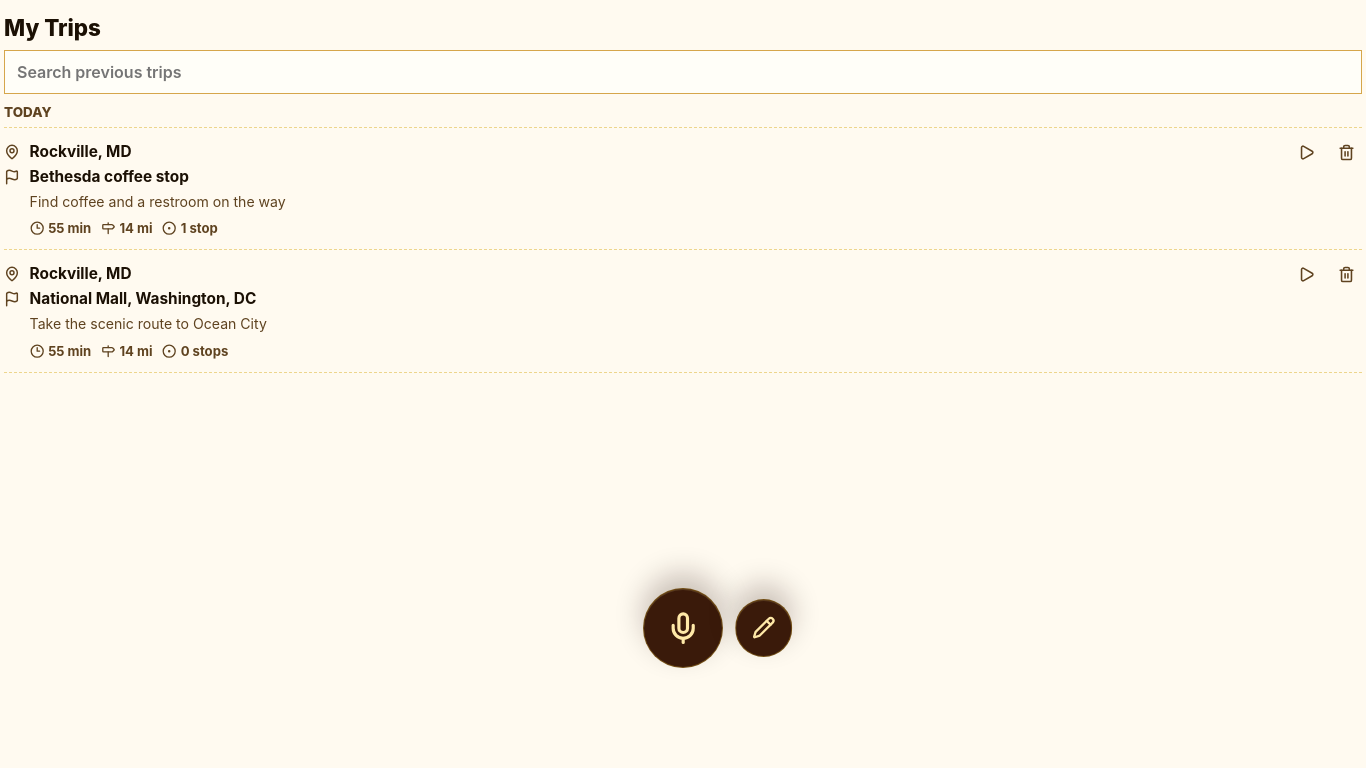
Test: MainScreen › filters, plays, and removes previous trips
Expected: the heading "My Trips" is shown, [4, 14, 101, 41]
Expected: the text "Rockville, MD" is shown 2 times, [30, 142, 132, 161]; [30, 264, 132, 283]
Type "coffee" into the search field labelled "Search previous trips".
click(683, 72); type("coffee")  # box [4, 50, 1362, 94]
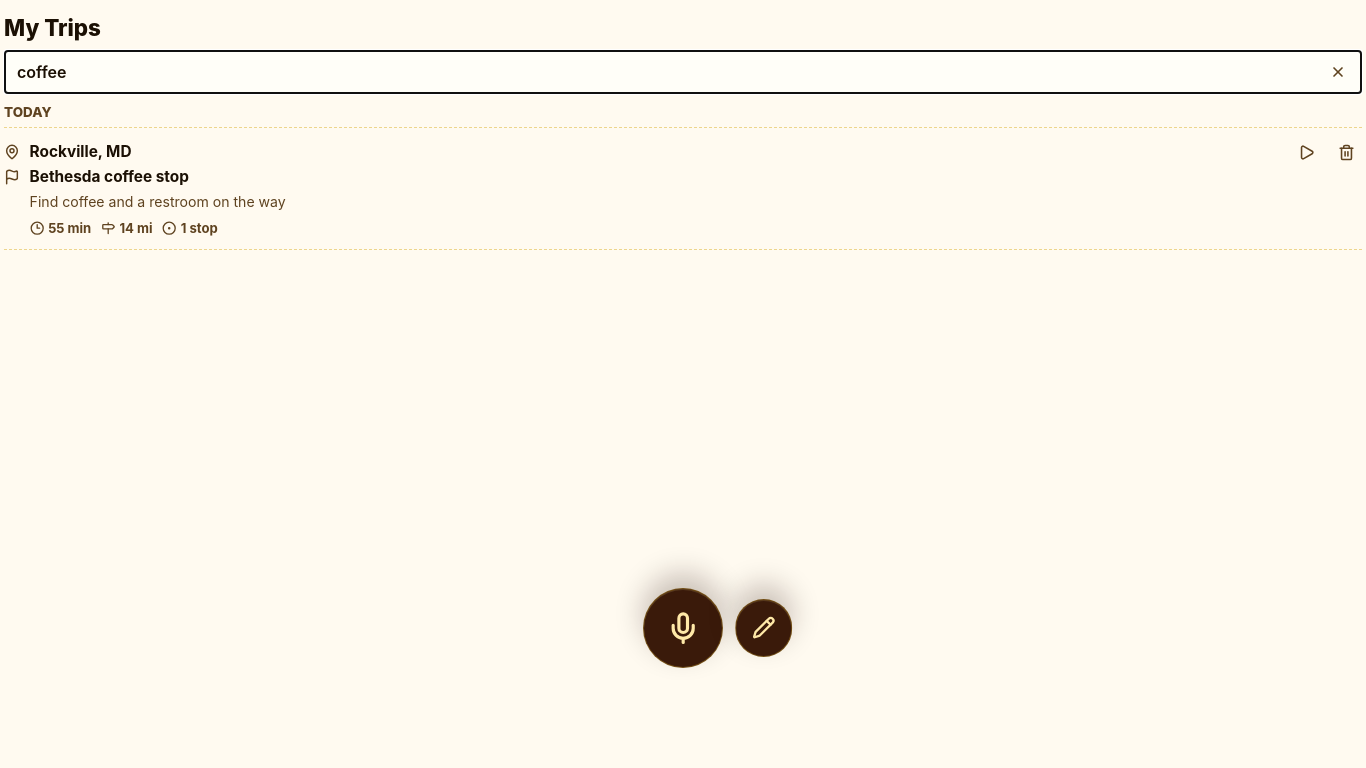
Expected: the text "Bethesda coffee stop" is shown, [30, 166, 189, 186]
Result: the button named "Clear Previous Trips Search" is shown
Result: the text "Take the scenic route to Ocean City" is gone
Click the button named "Clear Previous Trips Search".
click(1338, 72)  # box [1320, 54, 1356, 90]
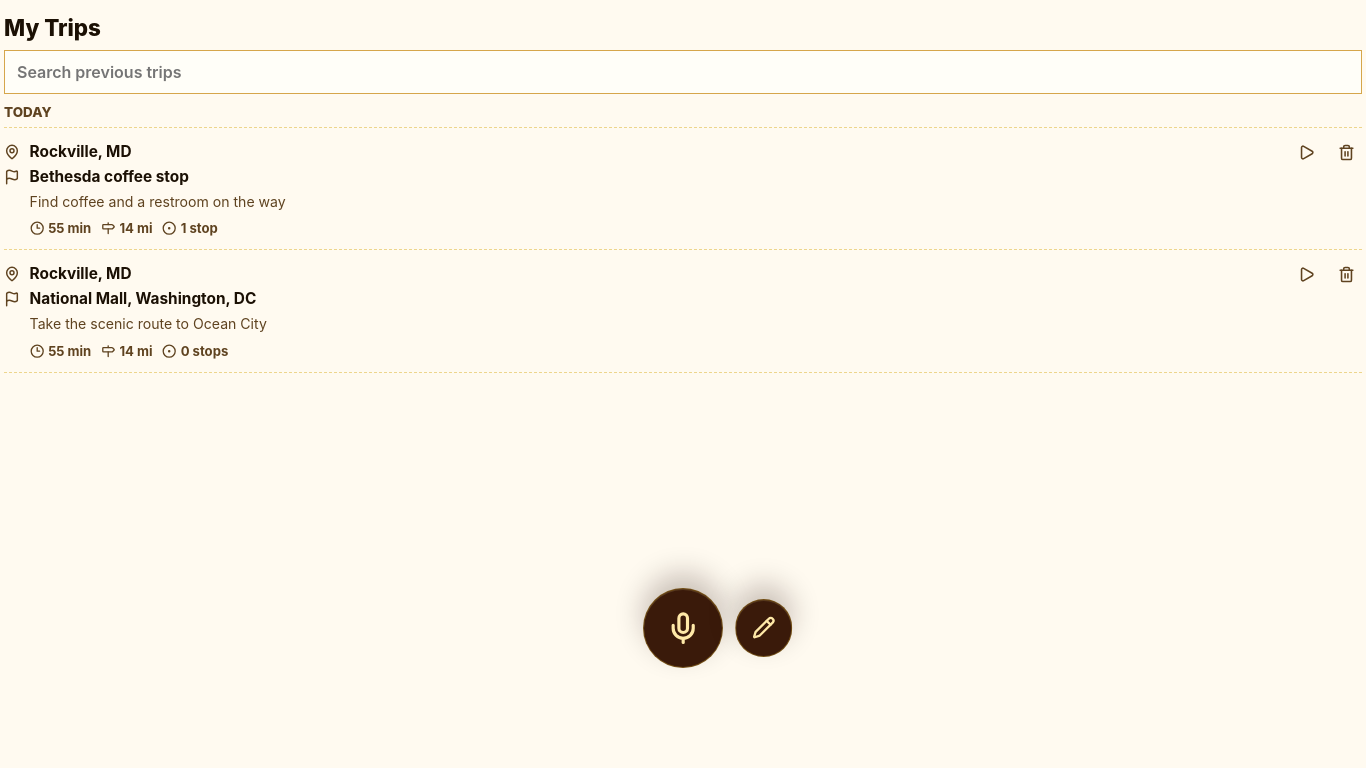
Result: the search field labelled "Search previous trips" is empty
Result: the text "Take the scenic route to Ocean City" is shown at [30, 315, 267, 332]
Type "NIH Clinical Center" into the search field labelled "Search previous trips".
click(683, 72); type("NIH Clinical Center")  # box [4, 50, 1362, 94]
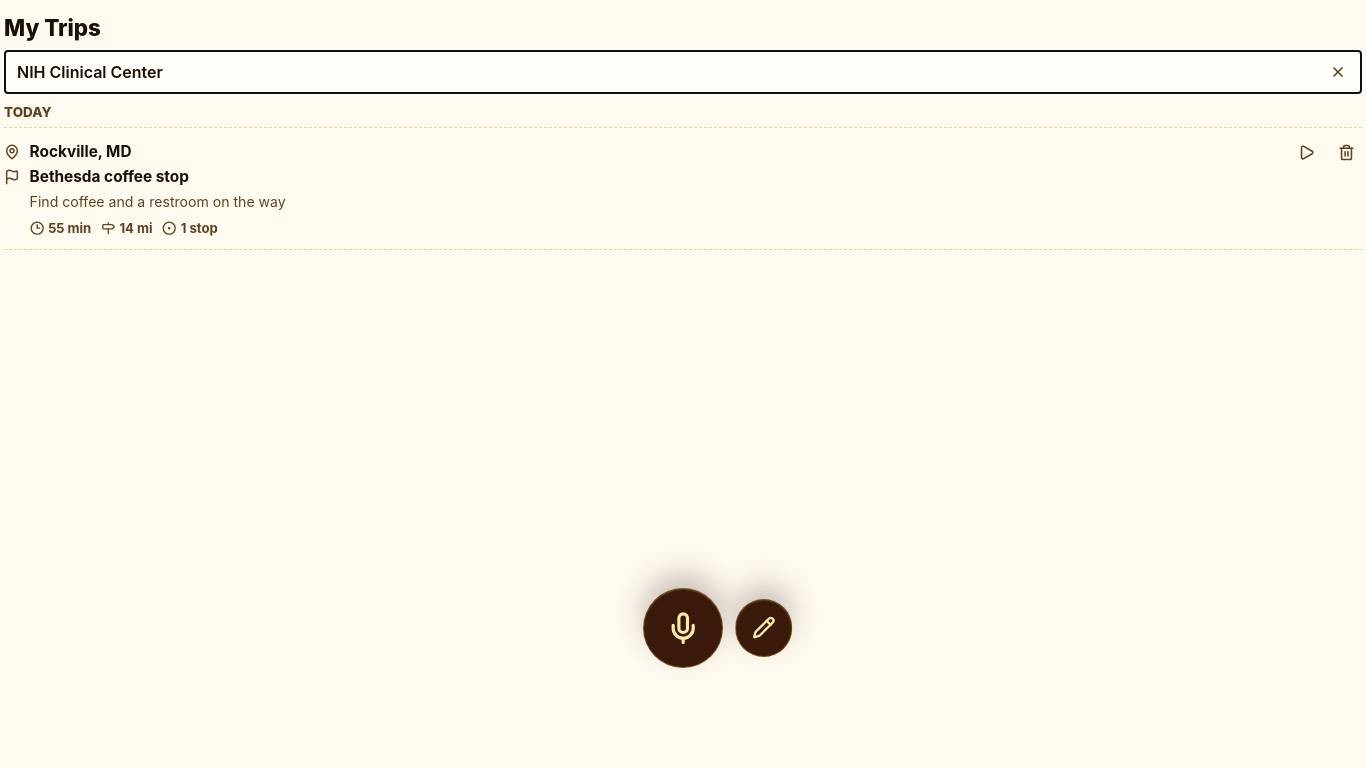
Expected: the text "Find coffee and a restroom on the way" is shown, [30, 193, 286, 210]
Click the button named "Play Find coffee and a restroom on the way".
click(1307, 152)  # box [1291, 136, 1323, 168]
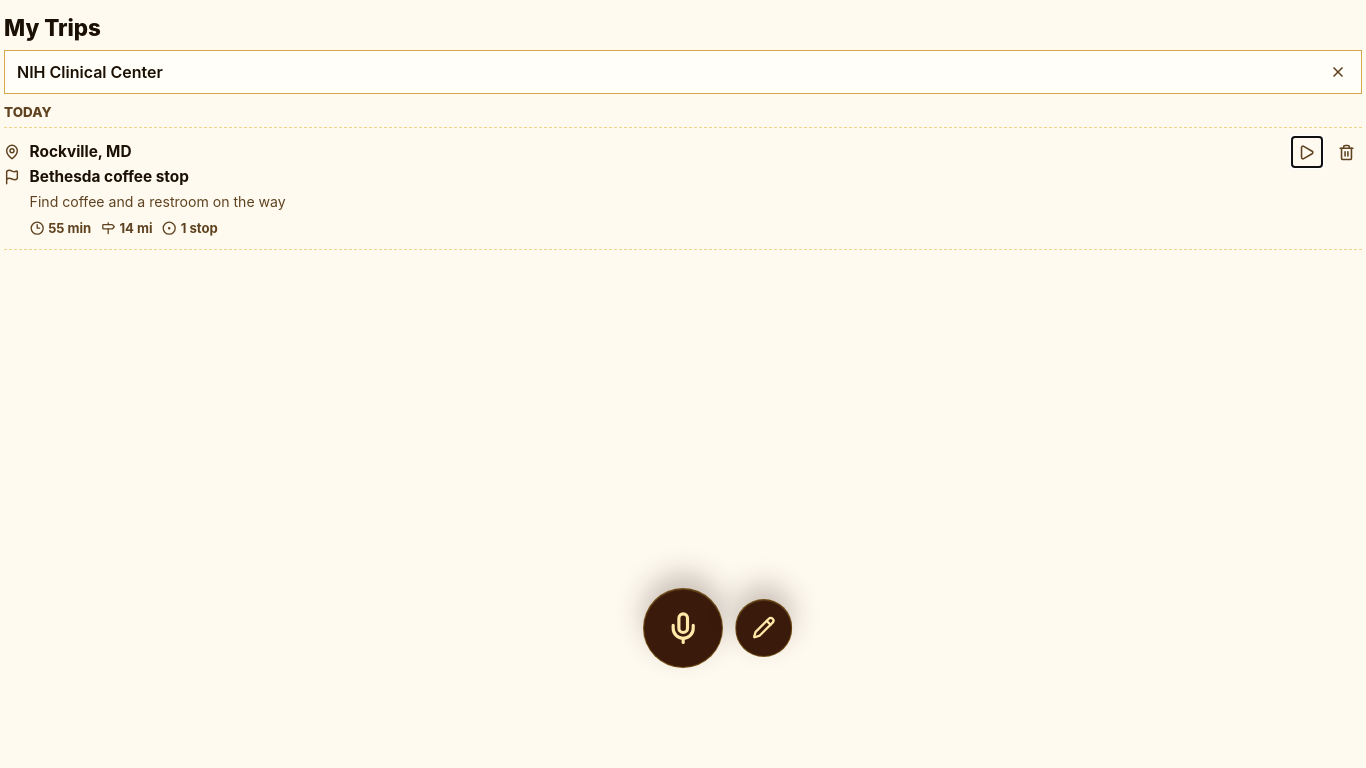
Click the button named "Remove Find coffee and a restroom on the way".
click(1346, 152)  # box [1330, 136, 1362, 168]
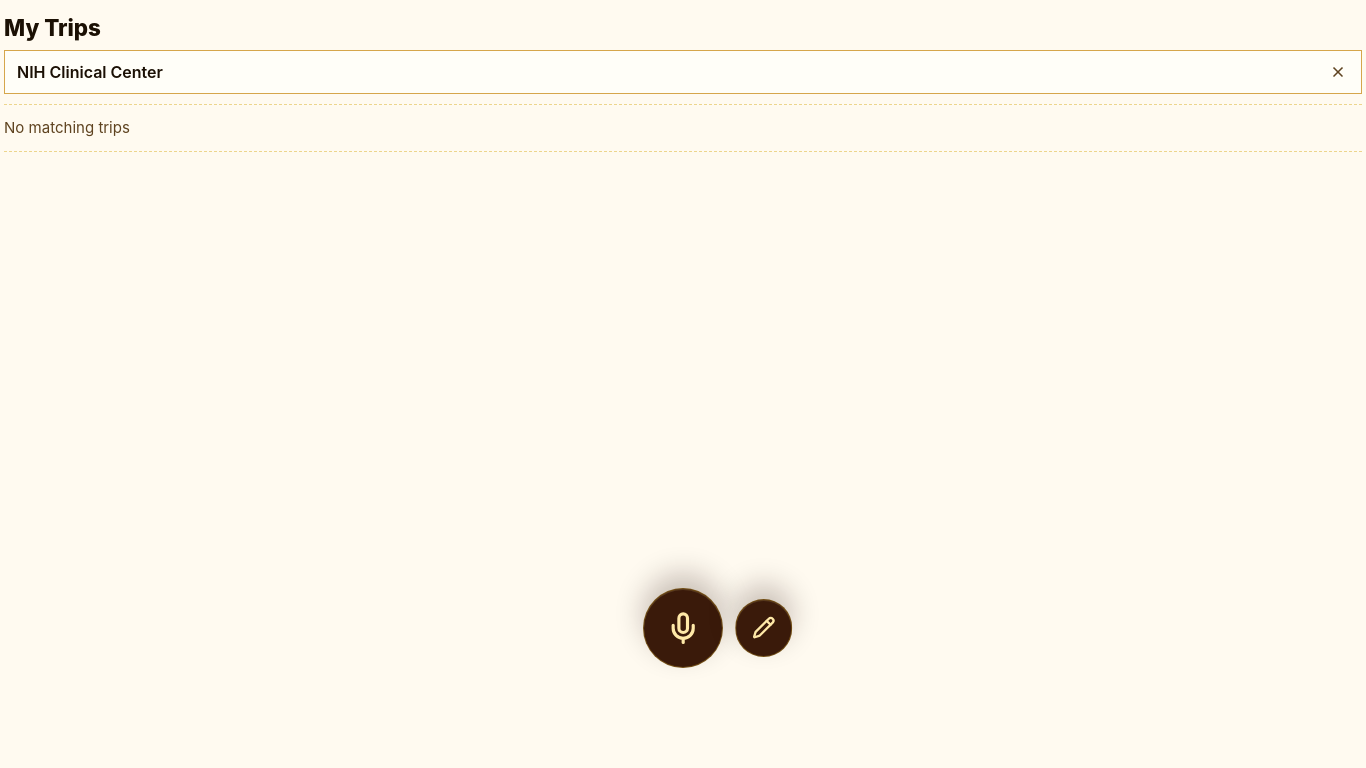
Result: the text "No matching trips" is shown at [4, 104, 1362, 152]
